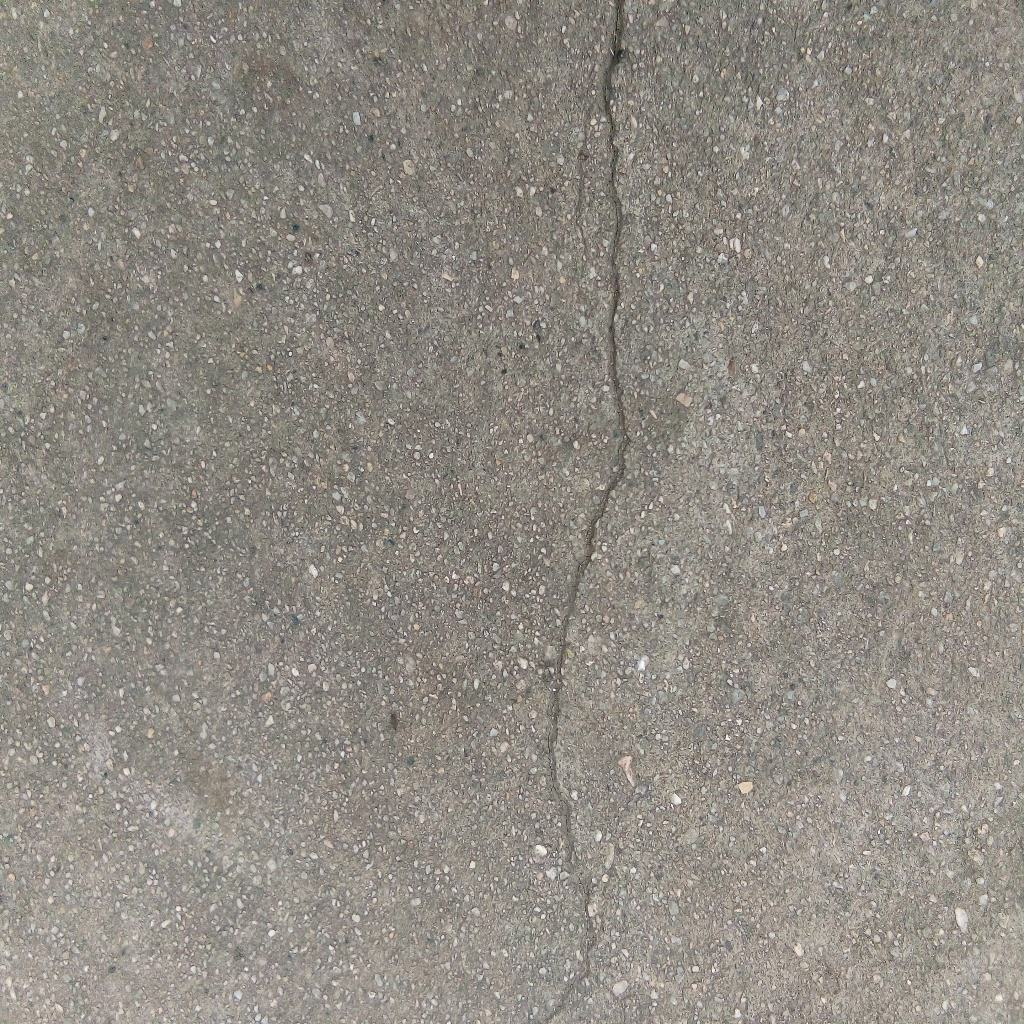Crack: (539, 1, 633, 1024)
